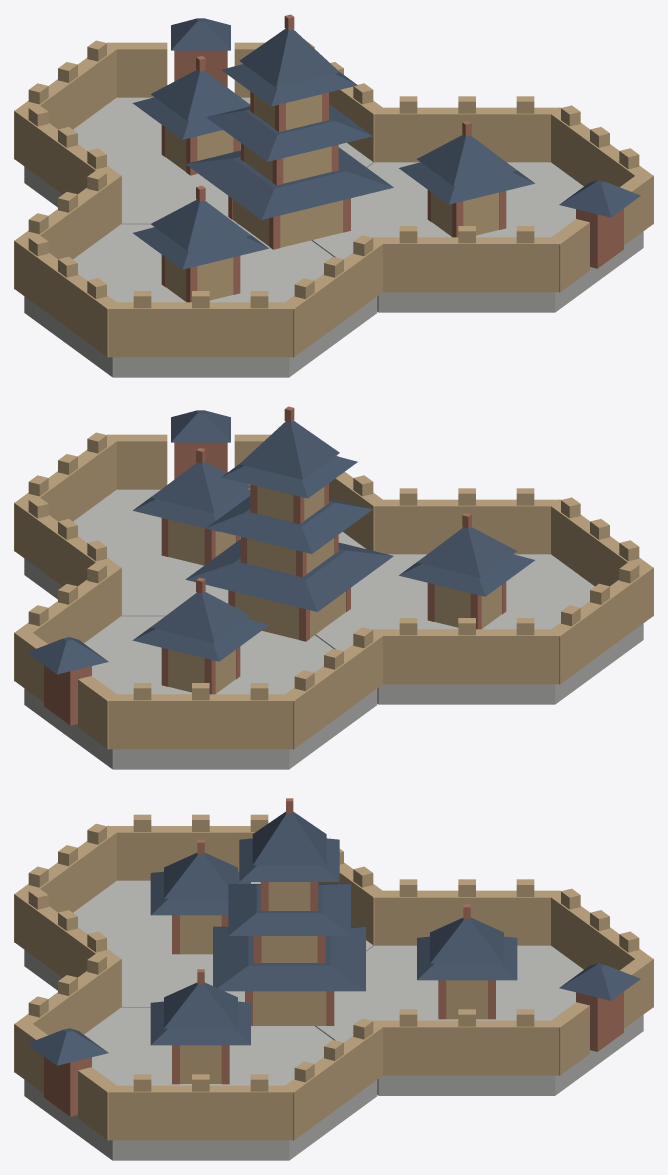
Rendered from castle-medium.glb.
3 renders of one model, top to bottom at view 1: azimuth 30°, elevation 25°; view 2: azimuth 150°, elevation 25°; view 3: azimuth 270°, elevation 25°, orthographic.
Visible parts, largest first — view 1: platform2, platform1, wall10, platform0, wall6, wall5, b0_eave0, wall9, wall11, b0_eave1, wall3, wall8 (+25 smaller); view 2: platform2, platform0, wall2, wall8, platform1, wall11, b0_eave0, wall9, wall3, b0_eave1, wall5, wall0 (+25 smaller); view 3: platform0, platform1, wall4, platform2, wall0, wall3, b0_eave0, wall5, wall9, b0_eave1, wall11, wall6 (+25 smaller).
Boxes of the visible parts, x1,y1,x2,y2 form: platform2: (24,224,377,377); platform1: (311,162,643,312); wall10: (107,302,294,357); platform0: (24,97,373,224); wall6: (373,237,560,292); wall5: (373,107,560,162); b0_eave0: (185,147,393,219); wall9: (14,238,121,357); wall11: (280,237,387,357); b0_eave1: (206,104,372,161); wall3: (14,107,121,224); wall8: (14,173,121,289); platform2: (315,554,643,704); platform0: (24,616,377,769); wall2: (107,694,294,749); wall8: (373,629,560,684); platform1: (24,489,366,616); wall11: (373,499,560,554); b0_eave0: (185,539,393,611); wall9: (551,564,653,684); wall3: (280,630,387,749); b0_eave1: (206,496,372,553); wall5: (14,499,121,616); wall0: (14,564,121,681); platform0: (315,945,643,1095); platform1: (24,1007,377,1160); wall4: (107,1085,294,1140); platform2: (24,880,373,1007); wall0: (373,1020,560,1075); wall3: (373,890,560,945); b0_eave0: (213,926,365,991); wall5: (280,1020,387,1140); wall9: (107,826,255,880); b0_eave1: (228,884,350,935); wall11: (15,891,121,1007); wall6: (14,955,121,1072).
Bounding box in the file's own units: 2.06 × 0.8316 × 2.08.
